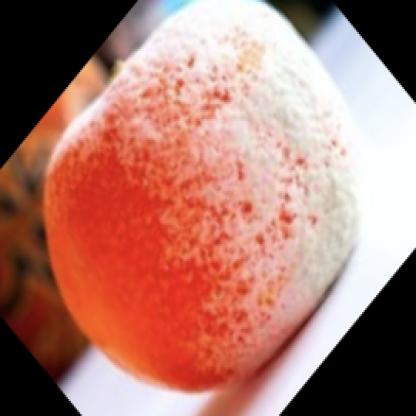rotten: (44, 3, 356, 396)
